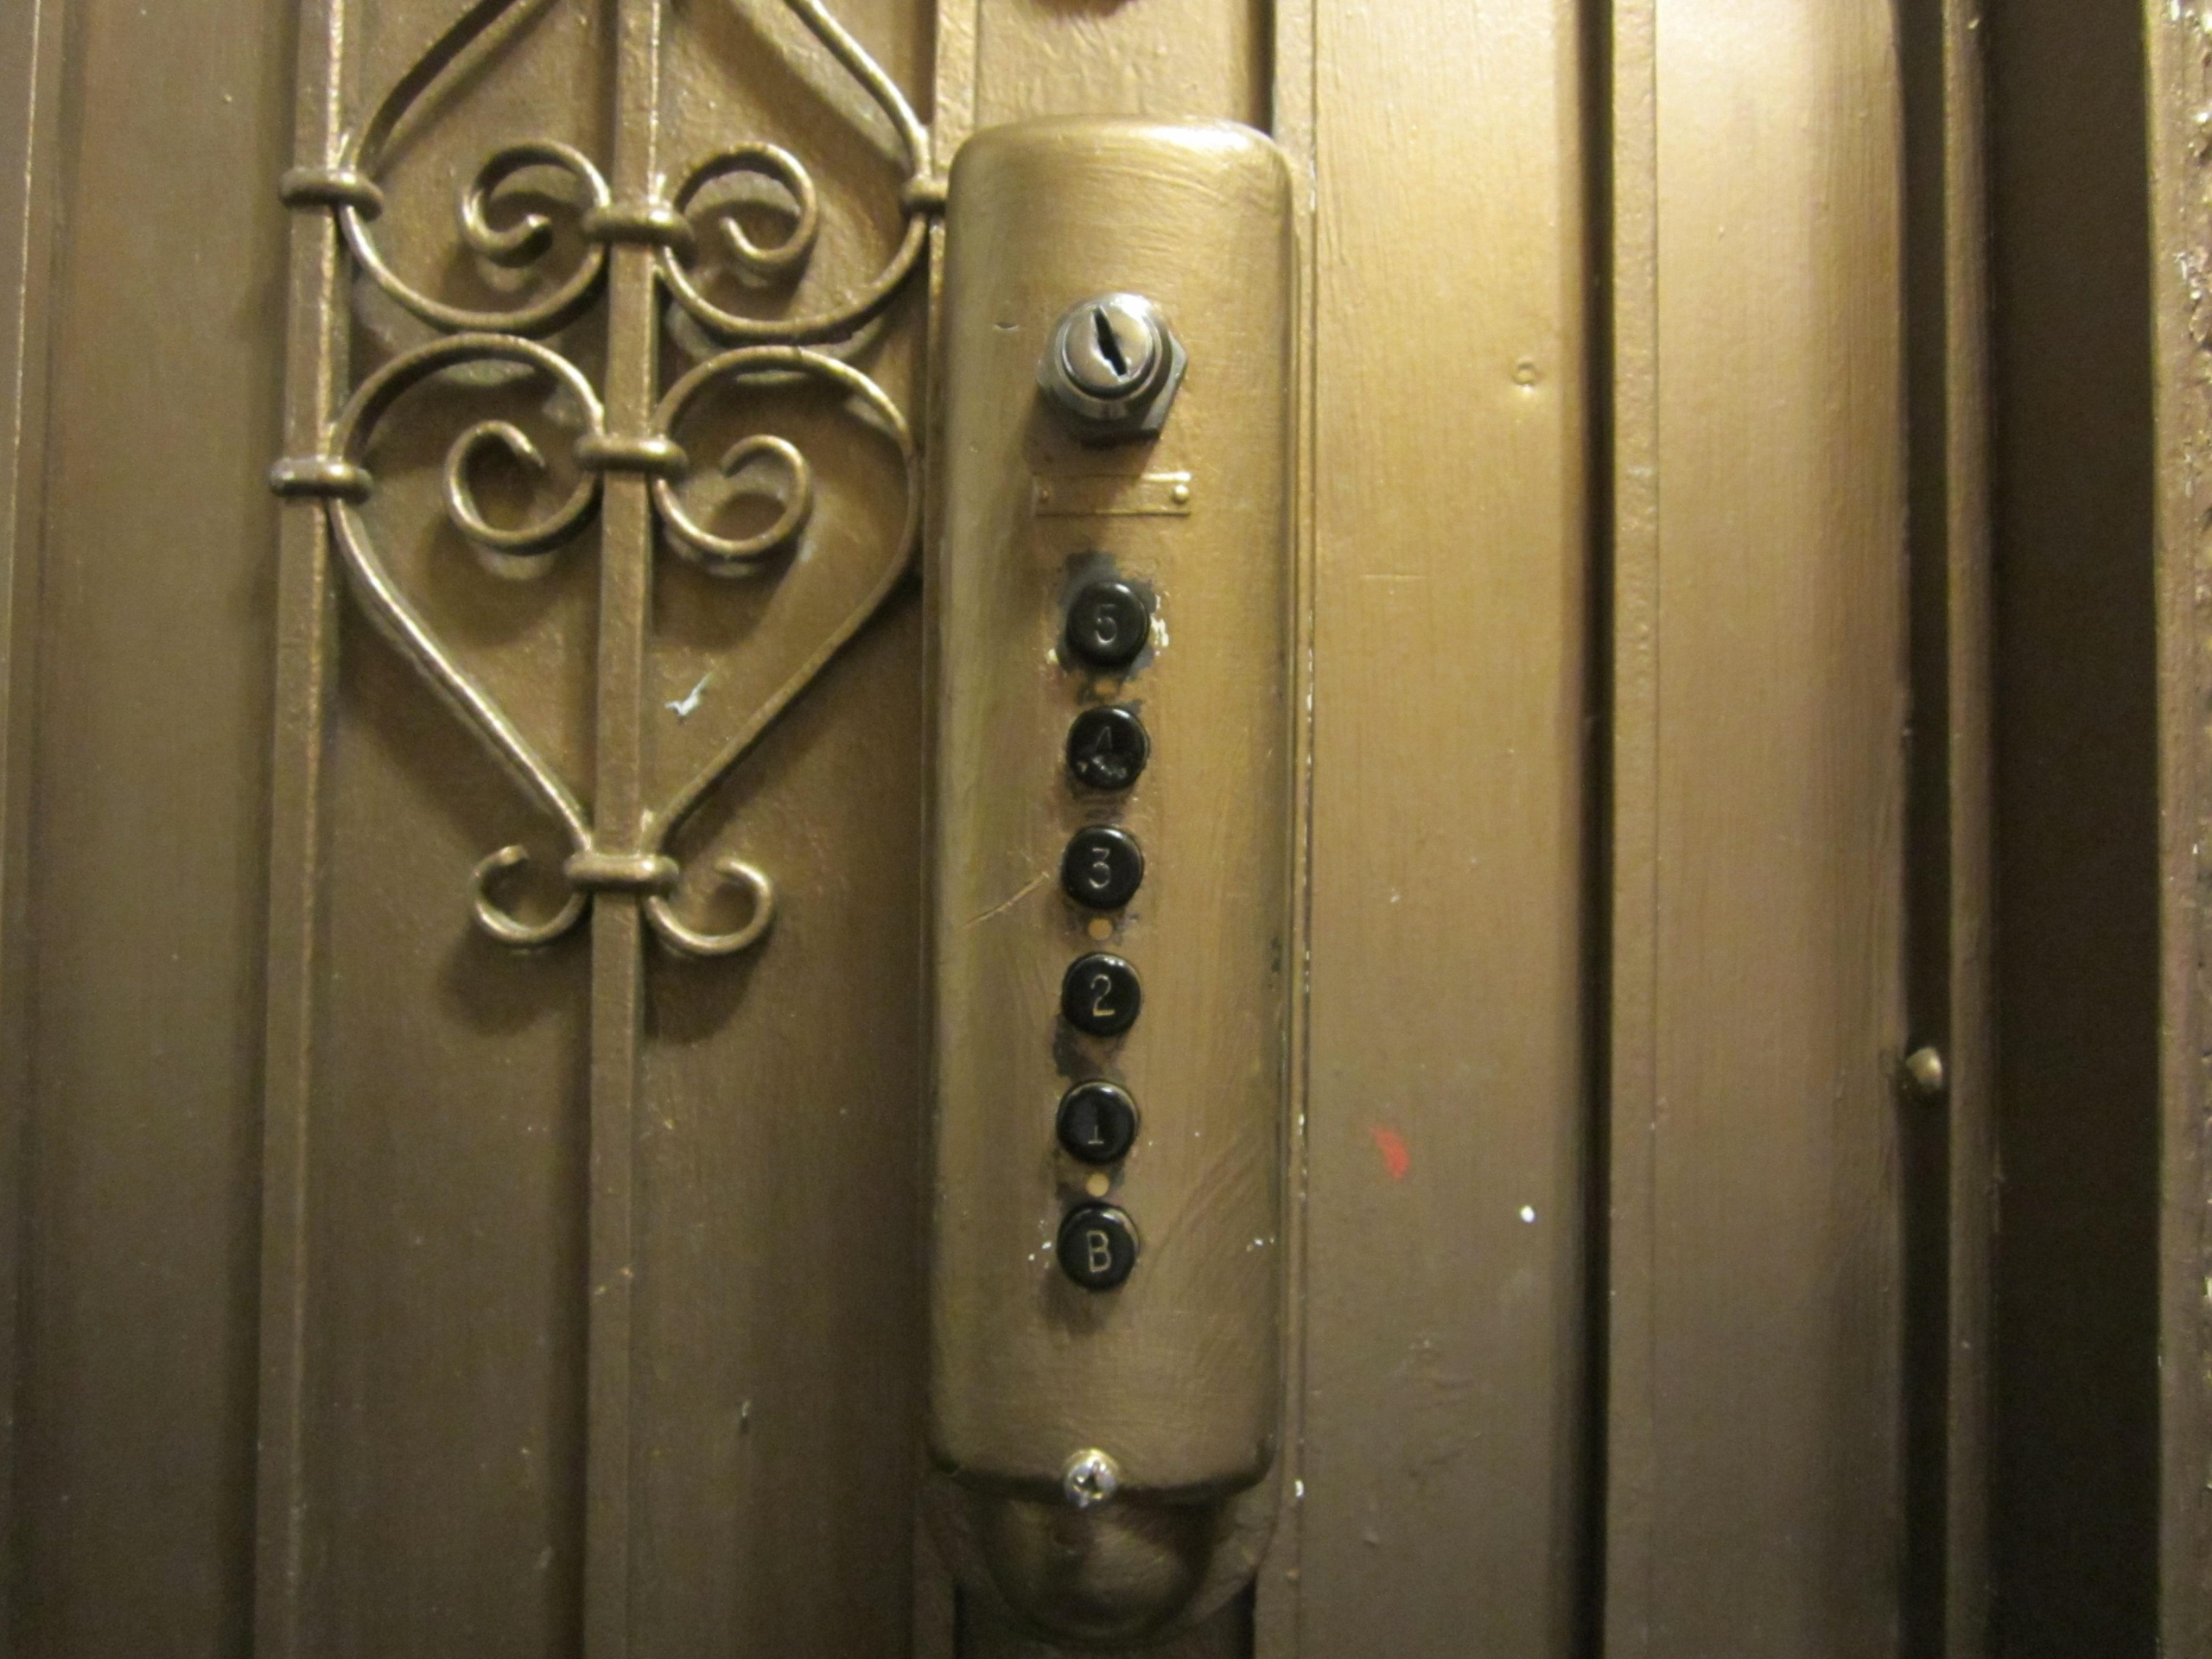1: (1045, 1072, 1148, 1169)
2: (1049, 945, 1151, 1042)
3: (1049, 819, 1151, 917)
4: (1054, 701, 1157, 798)
5: (1055, 577, 1158, 674)
B: (1047, 1197, 1150, 1295)
keyhole: (1031, 277, 1191, 443)
